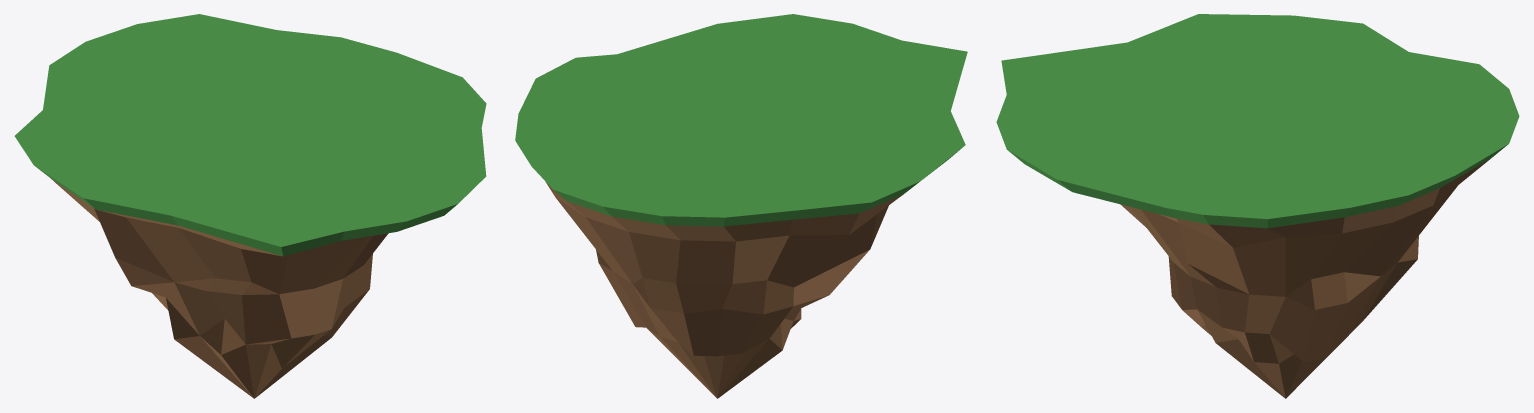
The model's file is island.gltf.
3 views of the same model, side by side, from view 1: azimuth 30°, elevation 25°; view 2: azimuth 150°, elevation 25°; view 3: azimuth 270°, elevation 25° (orthographic). The views are drawn at different scales.
Visible parts, largest first — view 1: Island Grass, Island; view 2: Island Grass, Island; view 3: Island Grass, Island.
Part boxes in pixels (<box>): Island Grass: <box>14,14,486,256</box>; Island: <box>51,179,388,398</box>; Island Grass: <box>515,14,967,226</box>; Island: <box>545,181,903,398</box>; Island Grass: <box>996,14,1519,228</box>; Island: <box>1120,159,1489,398</box>.
Size of the model in its own units: 5.89 by 3.9 by 6.52.
